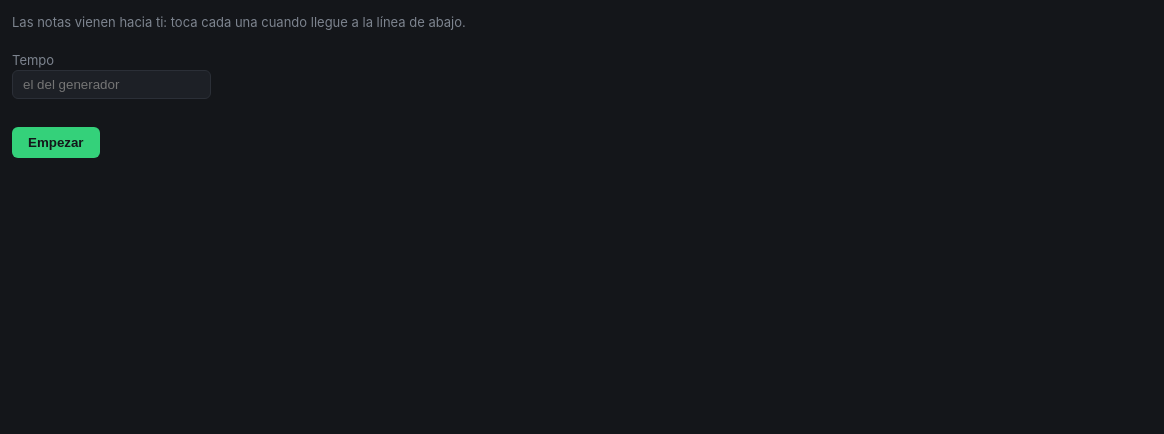
Test: Carril › al terminar muestra el resumen con los desfases
The image size is (1164, 434).
Click the button "Empezar" at {"x": 56, "y": 142}, box [12, 127, 100, 158]
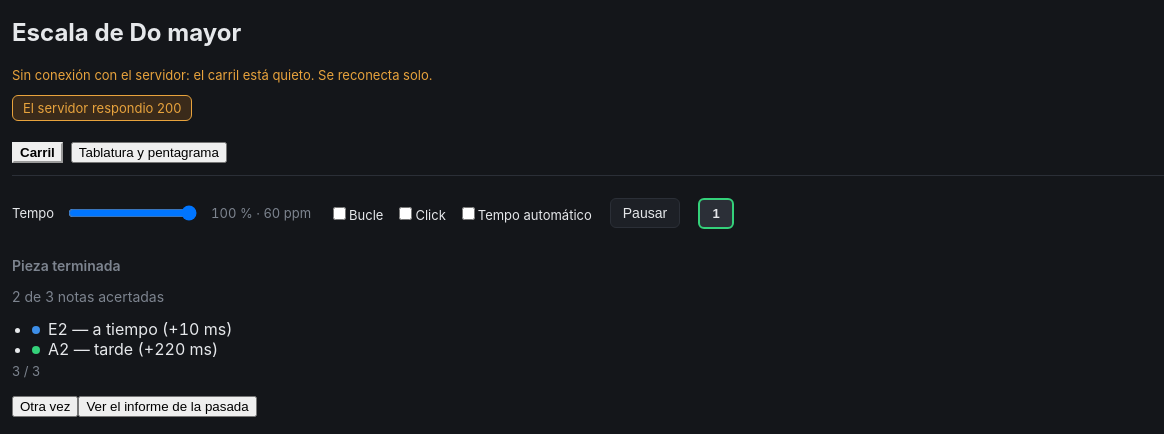
Result: the list item "E2 — a tiempo (+10 ms)" is shown at [32, 319, 232, 339]
Result: the list item "A2 — tarde (+220 ms)" is shown at [32, 339, 218, 359]
